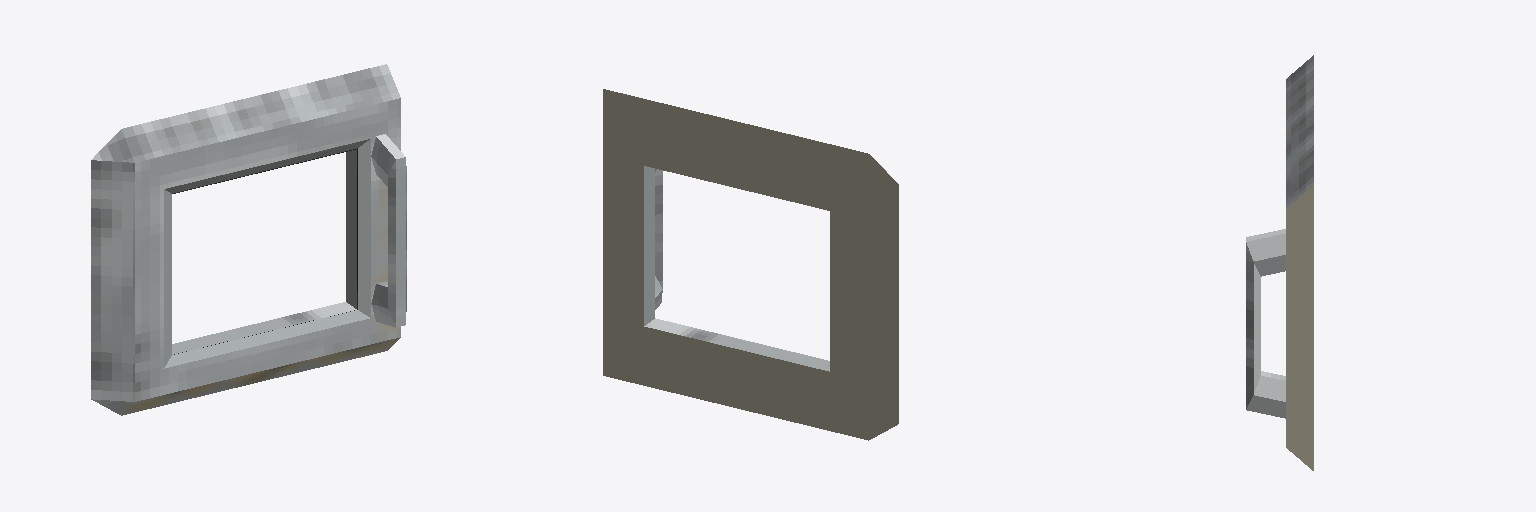
The picture shows the model from 3 angles: view 1: azimuth 30°, elevation 25°; view 2: azimuth 150°, elevation 25°; view 3: azimuth 270°, elevation 25°; orthographic projection.
Visible parts, largest first — view 1: beveled_cuboid.010; view 2: beveled_cuboid.010; view 3: beveled_cuboid.010.
Part boxes in pixels (x1,y1,x2,y2): beveled_cuboid.010: (91,64,406,415); beveled_cuboid.010: (603,89,898,440); beveled_cuboid.010: (1246,55,1313,470).
Size of the model in its own units: 2.02 by 1.88 by 0.4009.
Materials: 2 (2 with a texture image).